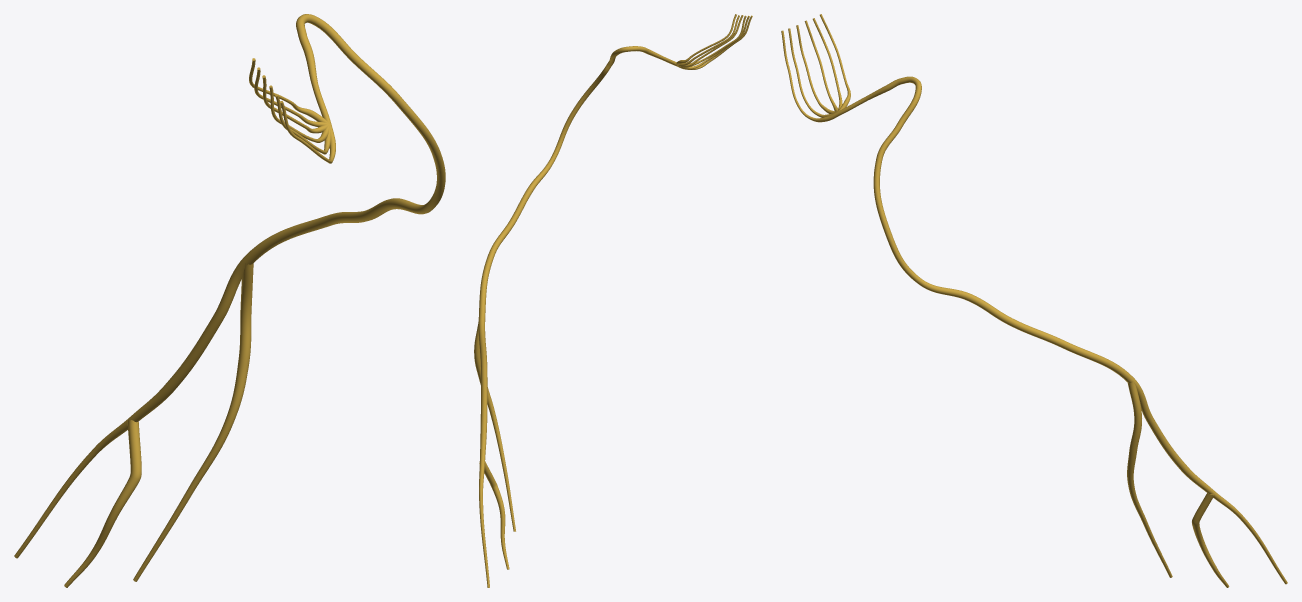
3 views of the same model, side by side, from view 1: azimuth 30°, elevation 25°; view 2: azimuth 150°, elevation 25°; view 3: azimuth 270°, elevation 25° (orthographic). The views are drawn at different scales.
Parts seen in each view (by area): view 1: 左侧舌下神经; view 2: 左侧舌下神经; view 3: 左侧舌下神经.
Part boxes in pixels (x1=…): 左侧舌下神经: x1=14, y1=14, x2=445, y2=587; 左侧舌下神经: x1=474, y1=14, x2=752, y2=587; 左侧舌下神经: x1=781, y1=14, x2=1287, y2=587.
Bounding box in the file's own units: 0.039 × 0.1116 × 0.0951.
